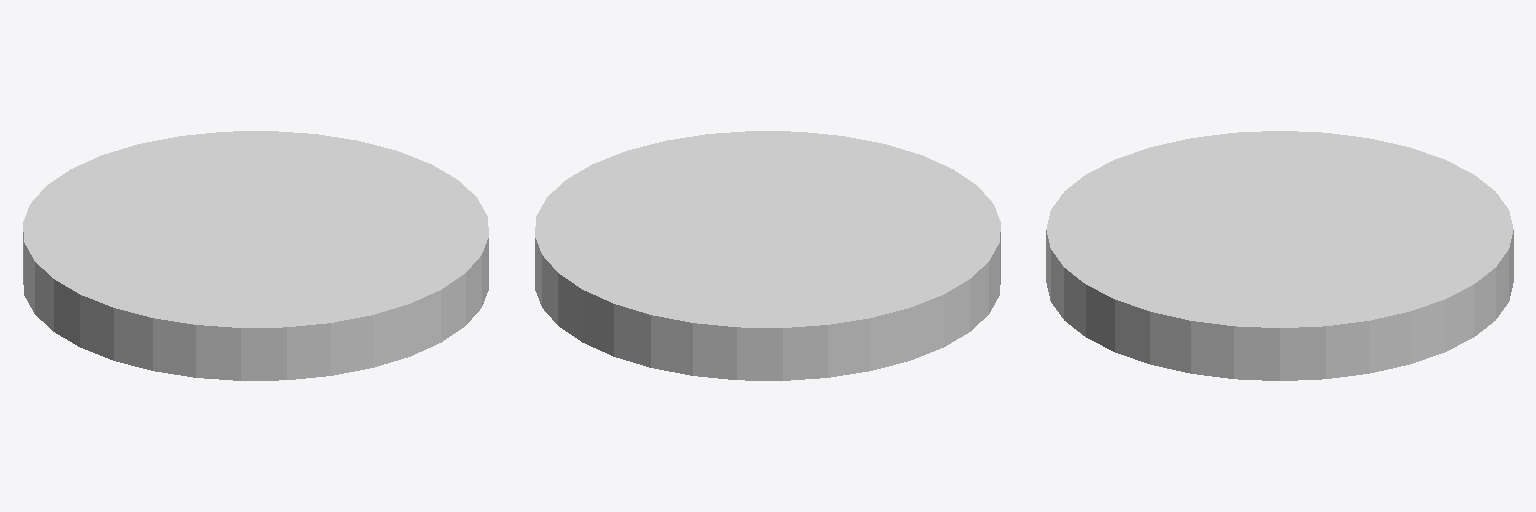
The model's file is mainLamp.obj.
3 renders of one model, left to right at view 1: azimuth 30°, elevation 25°; view 2: azimuth 150°, elevation 25°; view 3: azimuth 270°, elevation 25°, orthographic.
Parts seen in each view (by area): view 1: lamp; view 2: lamp; view 3: lamp.
Part boxes in pixels (x1,y1,x2,y2): lamp: (23,131,488,380); lamp: (535,131,1000,380); lamp: (1046,131,1513,380).
Size of the model in its own units: 0.4 by 0.05 by 0.4.